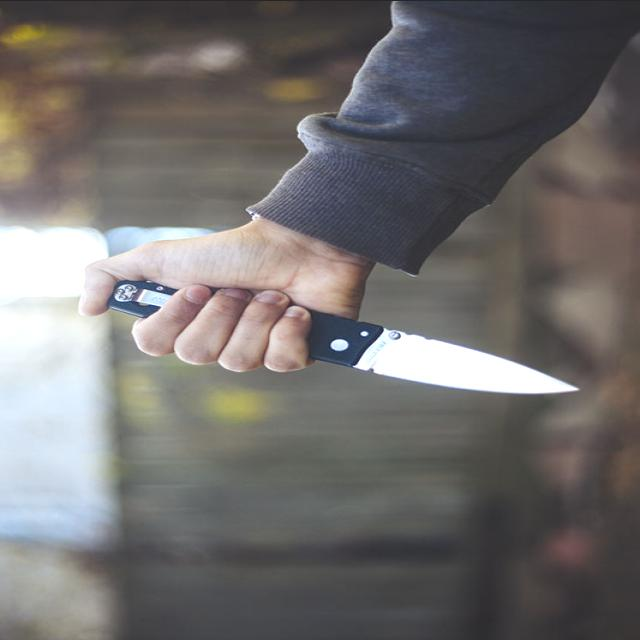knife: (178, 275, 592, 408)
